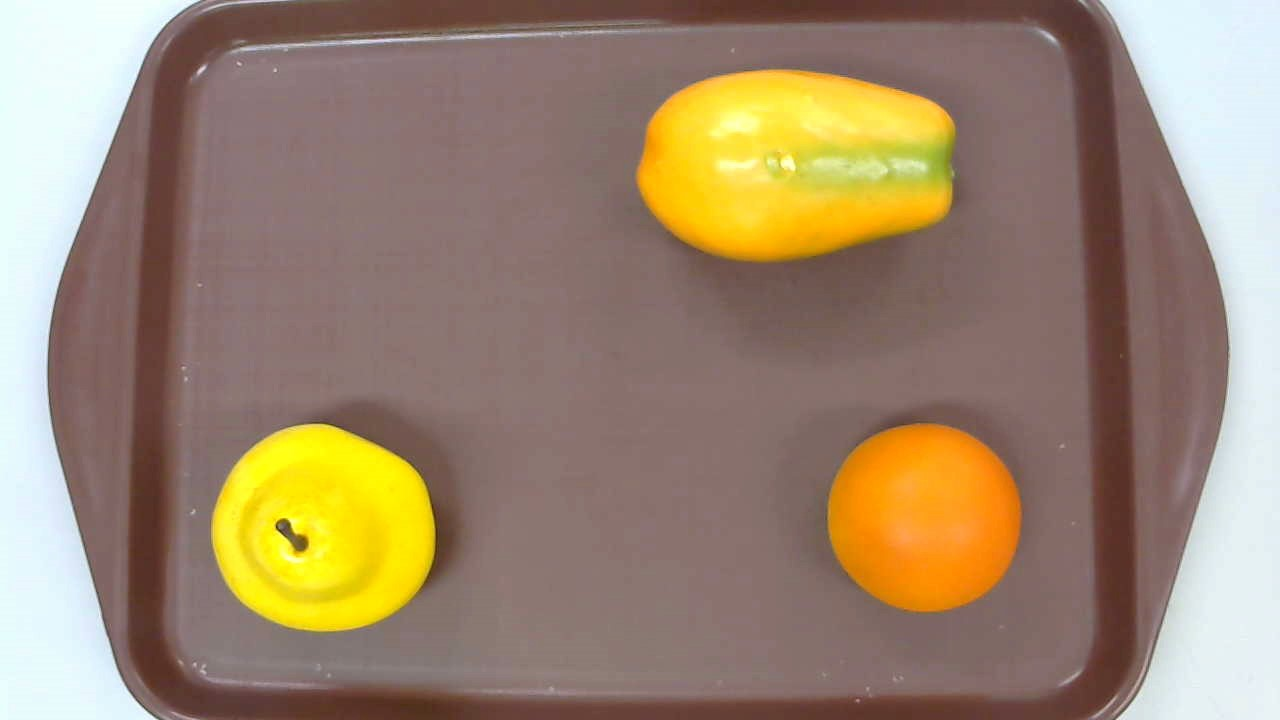bun: (826, 422, 1021, 613)
papya: (636, 69, 959, 265)
yellow pear: (209, 422, 435, 632)
